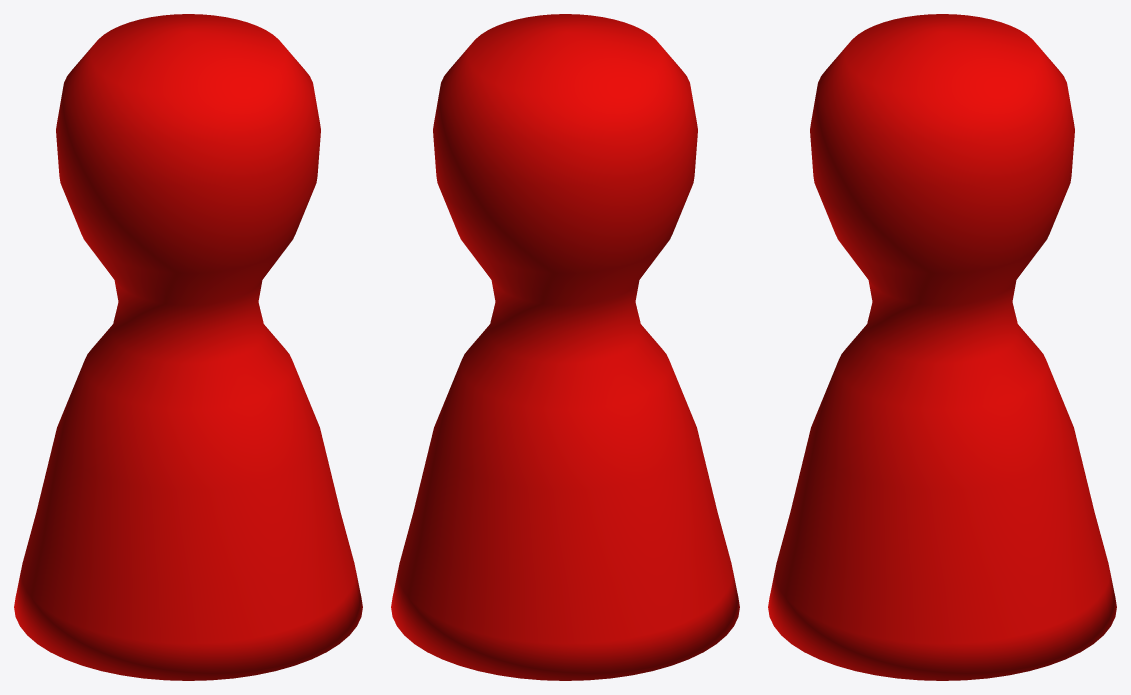
Rendered from pawn.glb.
The picture shows the model from 3 angles, left to right: view 1: azimuth 30°, elevation 25°; view 2: azimuth 150°, elevation 25°; view 3: azimuth 270°, elevation 25°; orthographic projection.
Visible parts, largest first — view 1: Pawn; view 2: Pawn; view 3: Pawn.
Part boxes in pixels (x1=…): Pawn: x1=14, y1=14, x2=362, y2=680; Pawn: x1=391, y1=14, x2=739, y2=680; Pawn: x1=768, y1=14, x2=1116, y2=680.
Size of the model in its own units: 0.022 by 0.04 by 0.022.
